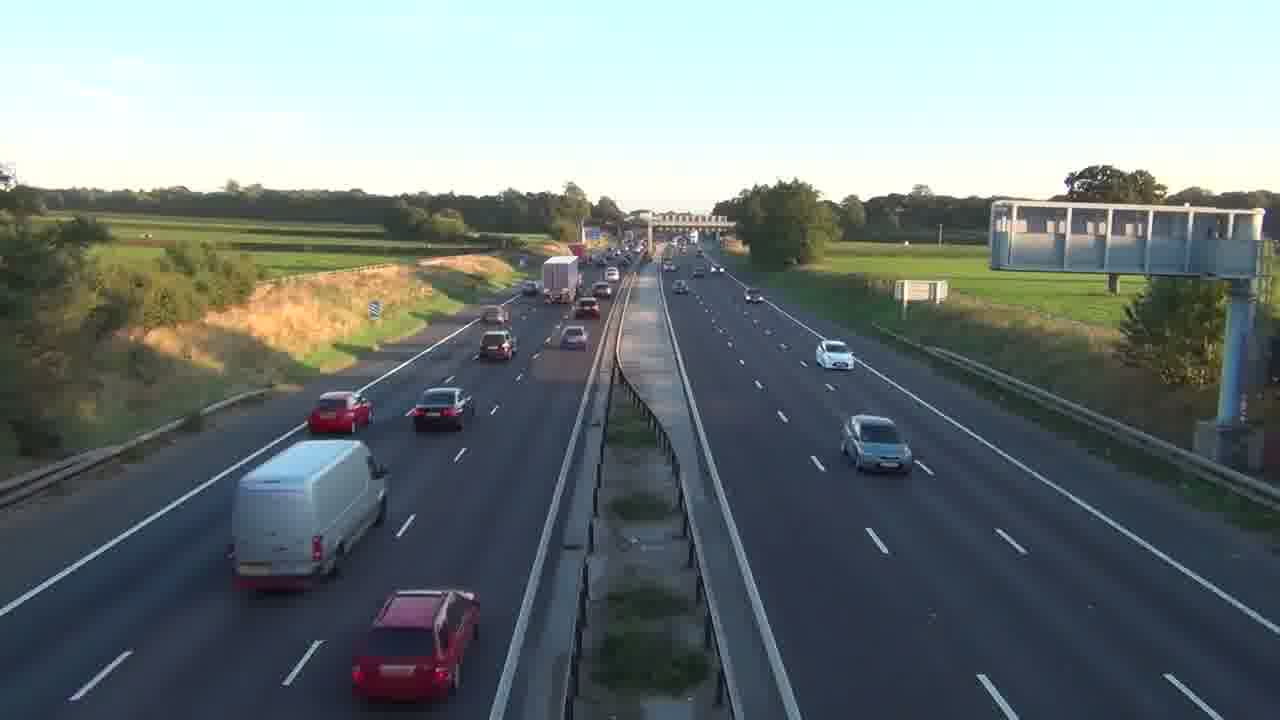car: (840, 413, 914, 474), (405, 386, 470, 432), (306, 391, 372, 435), (816, 338, 855, 371), (558, 323, 587, 351)
truck: (227, 436, 390, 594), (350, 587, 481, 705)
